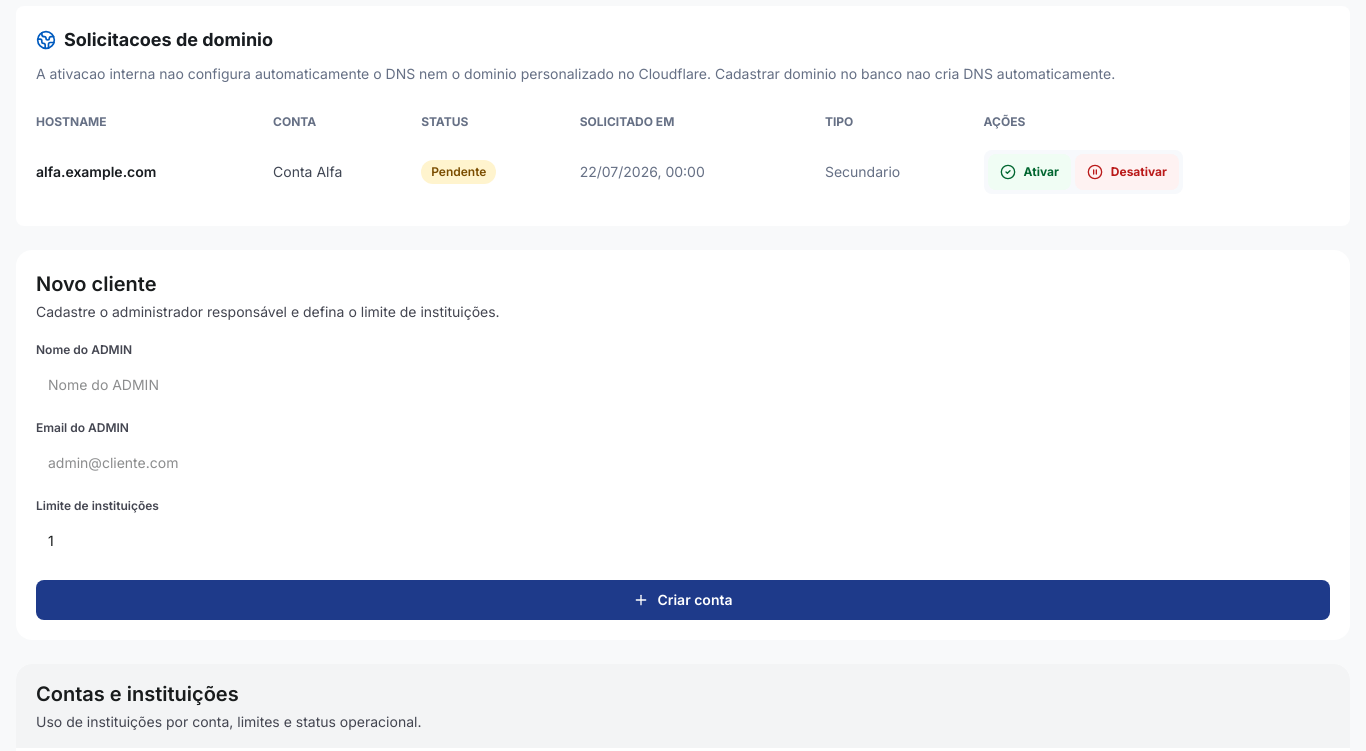
Test: PlatformPage › mantem a acao real de criar conta usando o nome do ADMIN como accountName
The image size is (1366, 751).
(page scrolled)
In the field labelled "Nome do ADMIN": x=683, y=384 [36, 364, 1330, 404], type "  Samuel Araújo  "
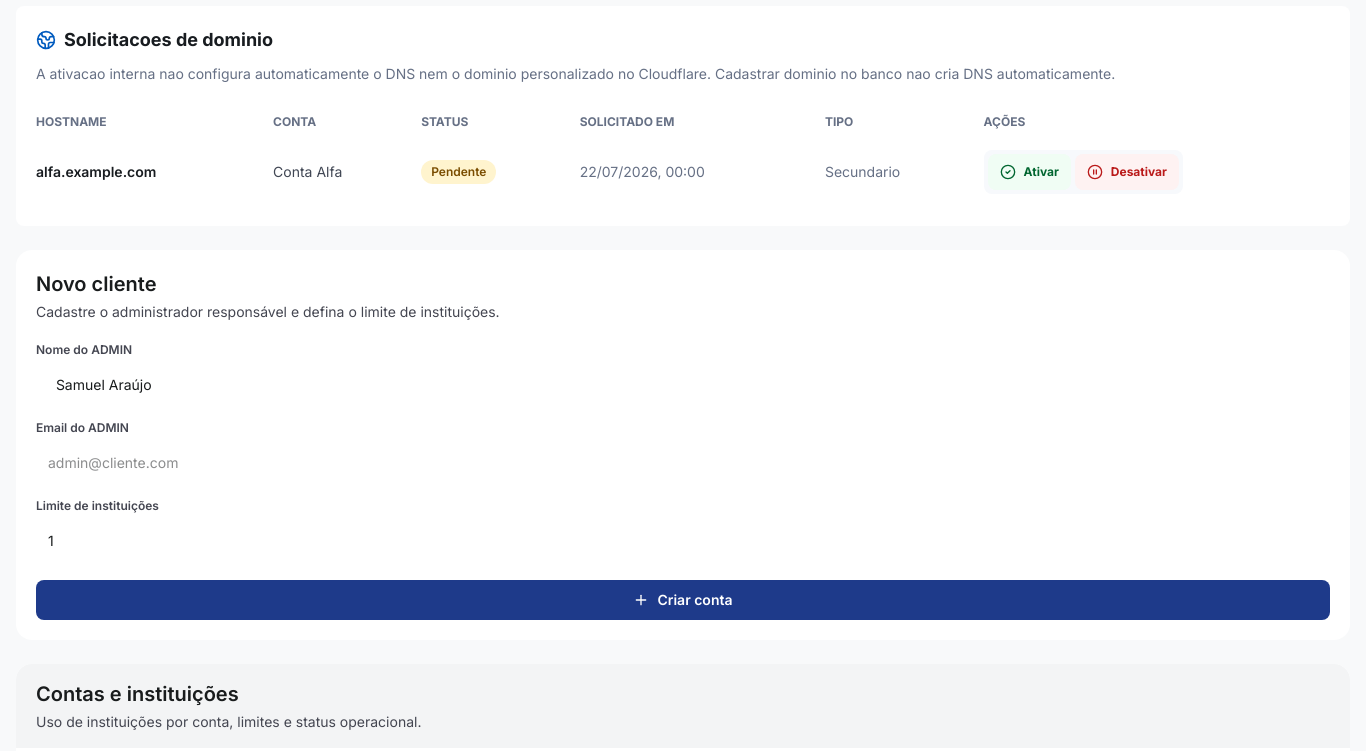
In the field labelled "Email do ADMIN": x=683, y=462 [36, 442, 1330, 482], type "Samuel@Email.COM"
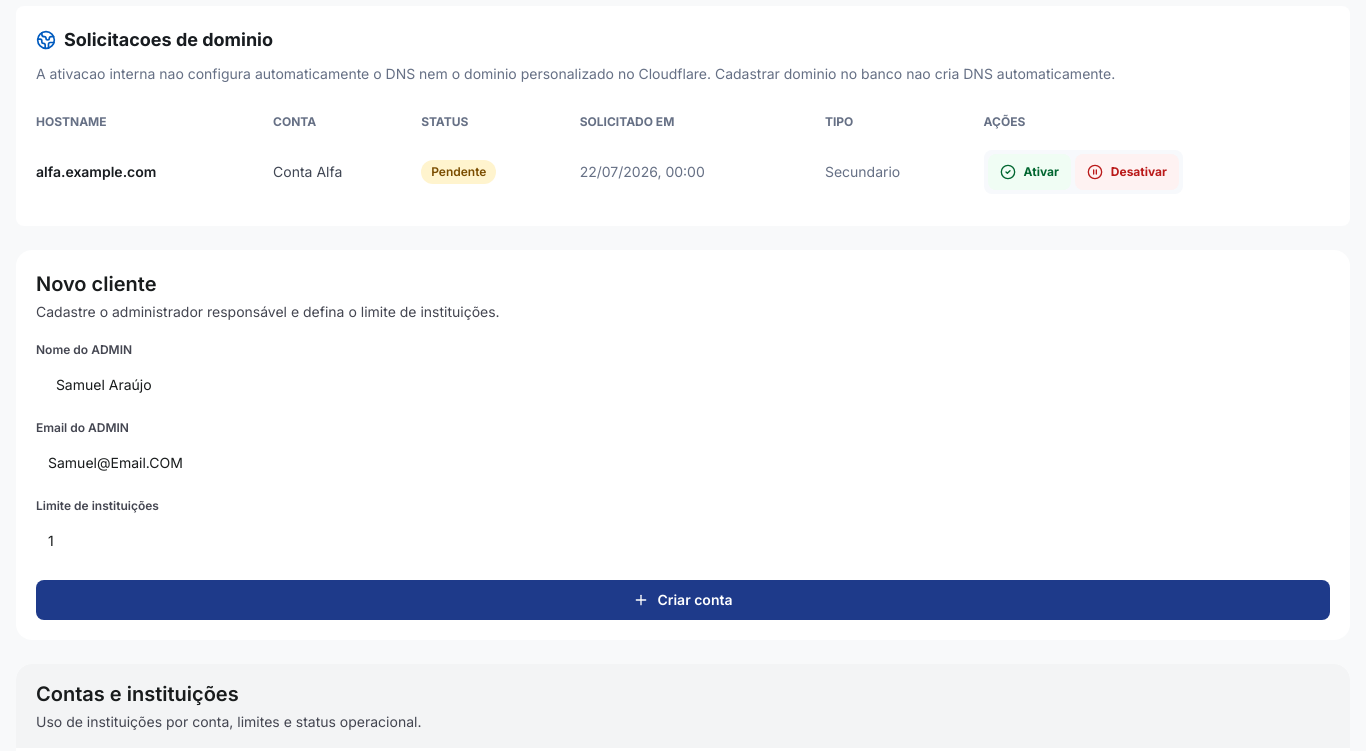
Replace the text in the number field labelled "Limite de instituições" with "5": x=683, y=540 [36, 520, 1330, 560]
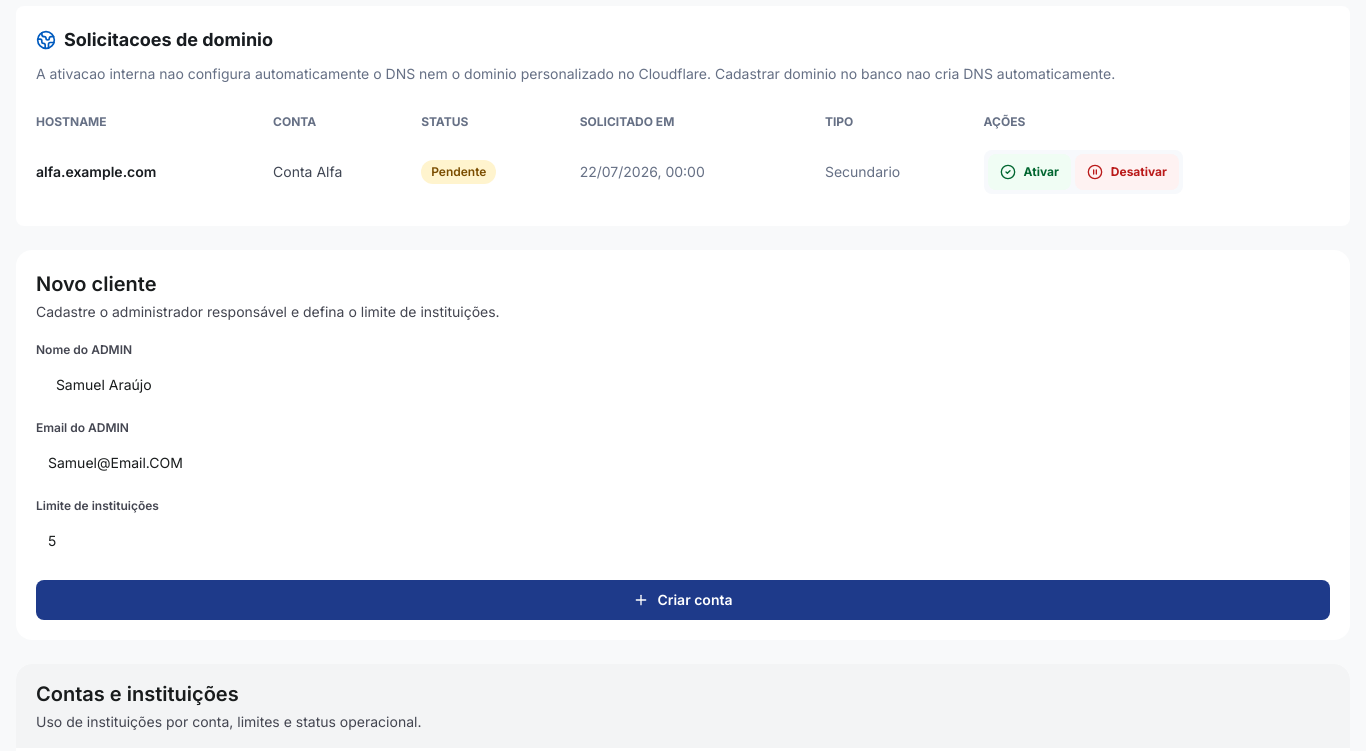
Click the button "Criar conta": x=683, y=600 [36, 580, 1330, 620]
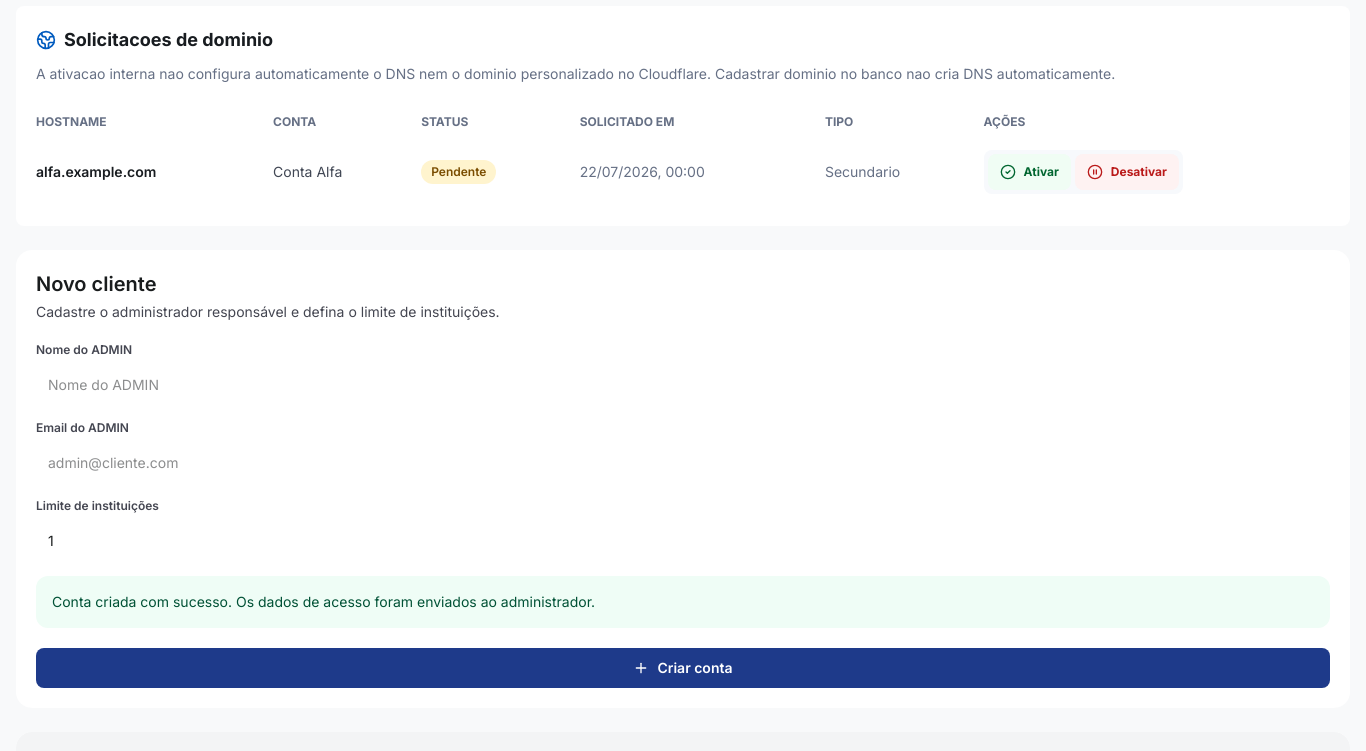
Expected: the text "Conta criada com sucesso. Os dados de acesso foram enviados ao administrador." is shown, [36, 576, 1330, 628]
